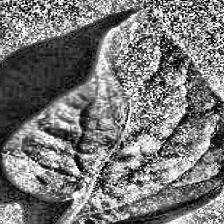spider mites: (0, 6, 224, 224)
